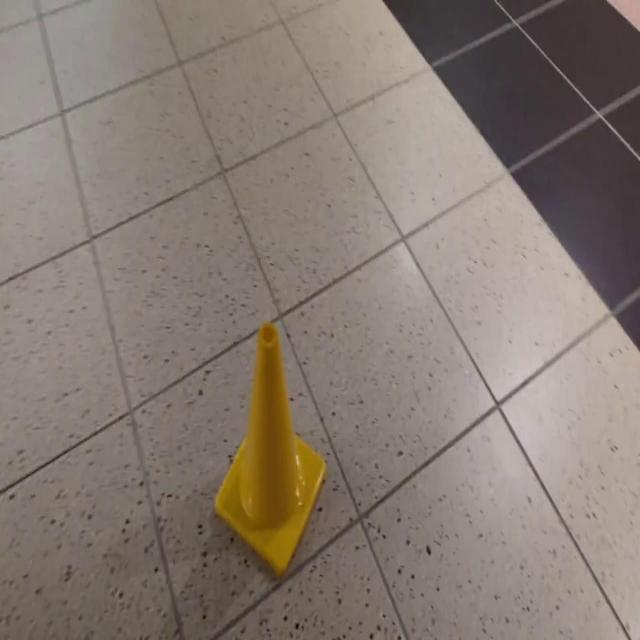frc_cone: (215, 319, 326, 579)
